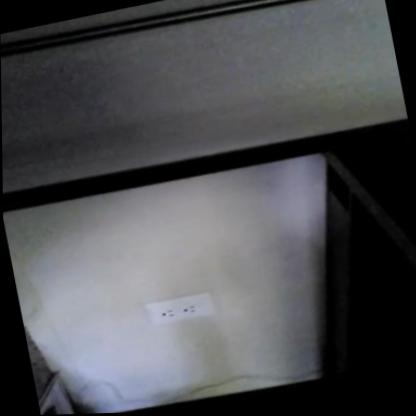OUTLET: (145, 290, 212, 328)
